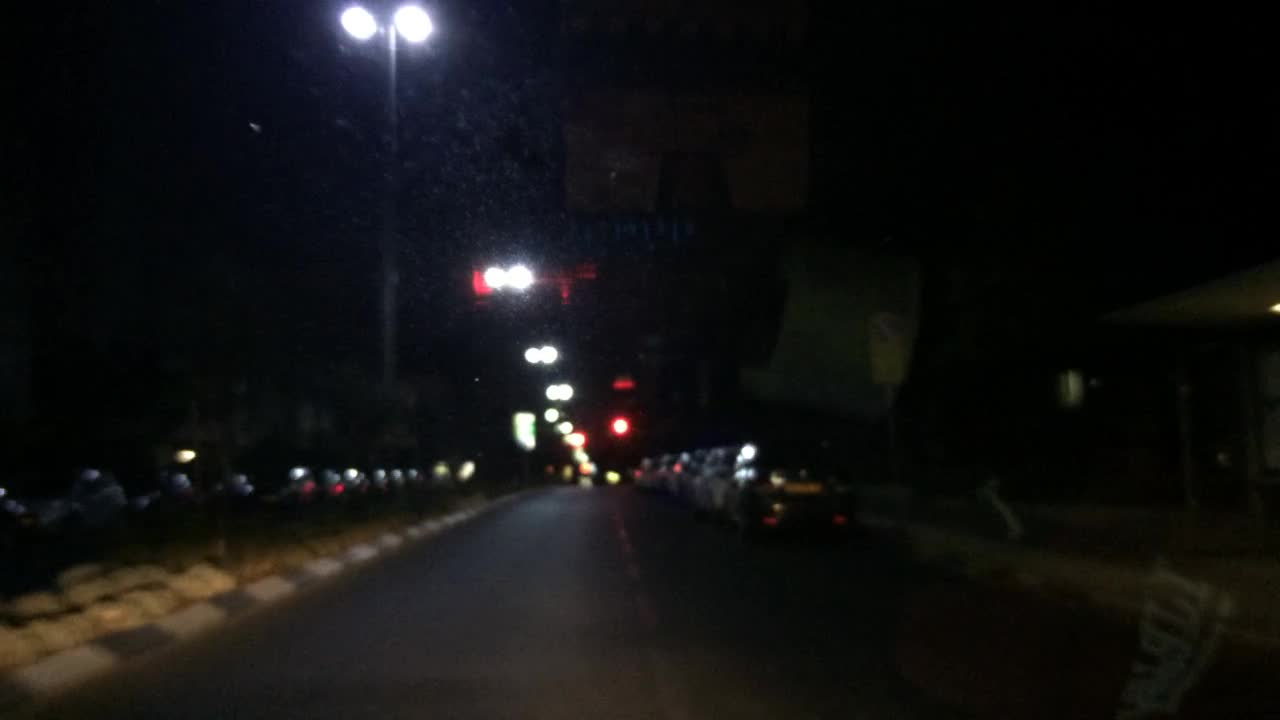car: (719, 438, 872, 557), (1, 457, 115, 532), (113, 459, 184, 532), (683, 443, 742, 513), (185, 463, 248, 527), (250, 460, 311, 522), (312, 459, 358, 517), (654, 447, 700, 501), (431, 455, 477, 507), (359, 459, 398, 511), (397, 459, 431, 509), (638, 449, 672, 488), (602, 466, 625, 486), (574, 474, 594, 489)
traffic light: (610, 413, 630, 438)
traffic sign: (867, 313, 914, 384), (1058, 370, 1082, 401)
